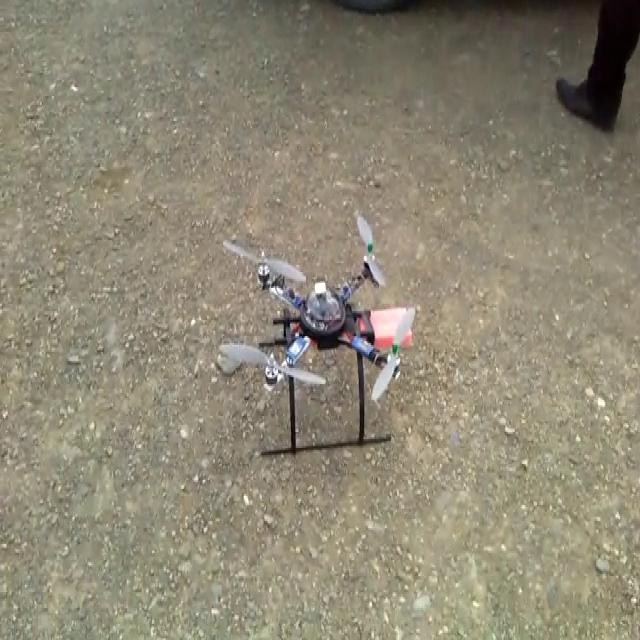drone: (215, 202, 419, 483)
